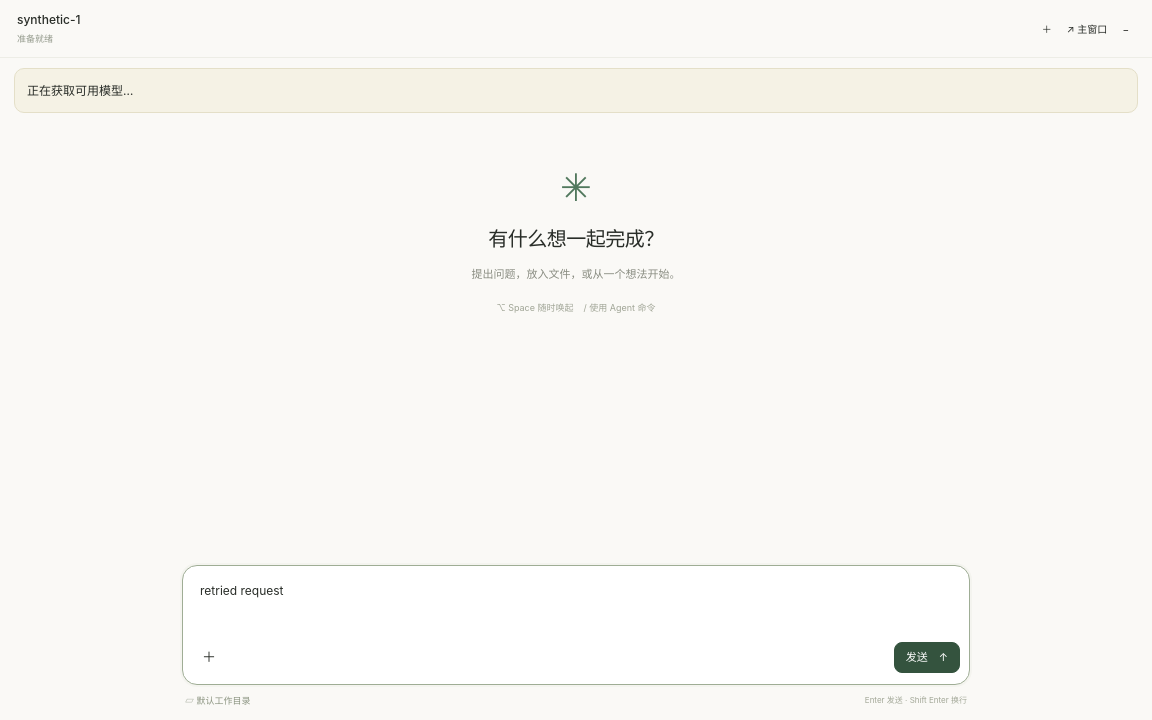
it: uses the actual unchanged draft revision after a deduplicated send switches sessions
The image size is (1152, 720).
Check: the text "synthetic-1" is shown, box [17,10,80,29]
Click the button "发送 ↑" at (927, 657), box [894,642,960,673]
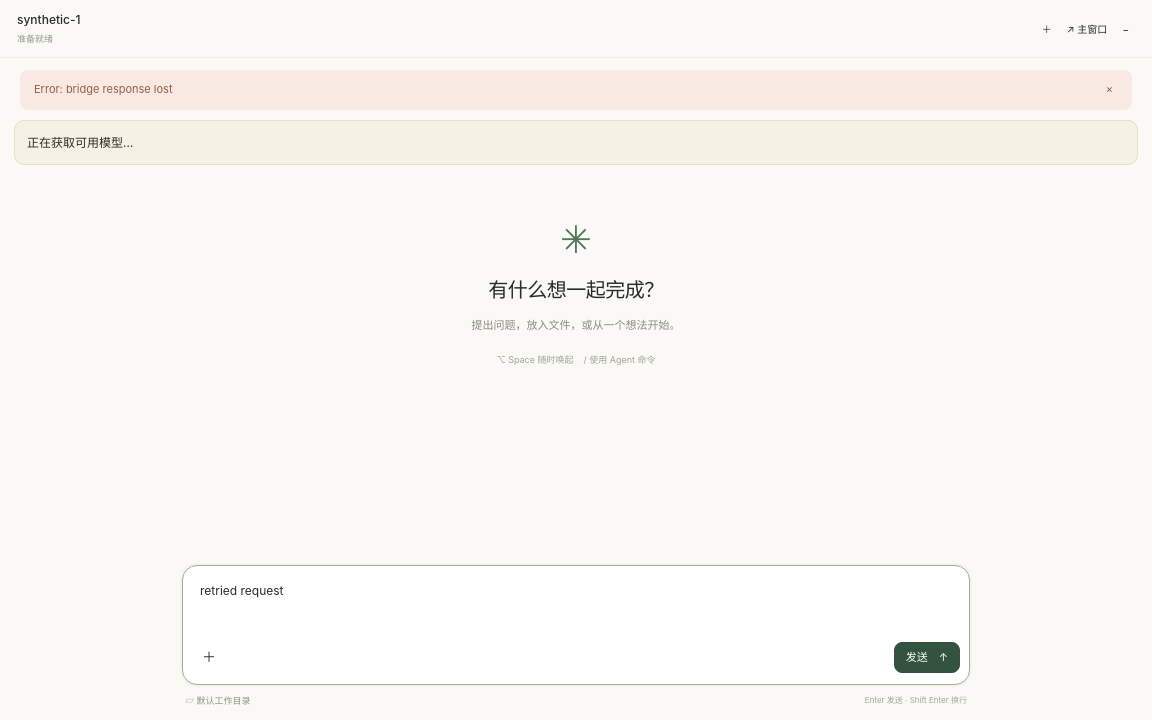
Check: the text "Error: bridge response lost" is shown, box [34,82,172,96]
Click the button "发送 ↑" at (927, 657), box [894,642,960,673]
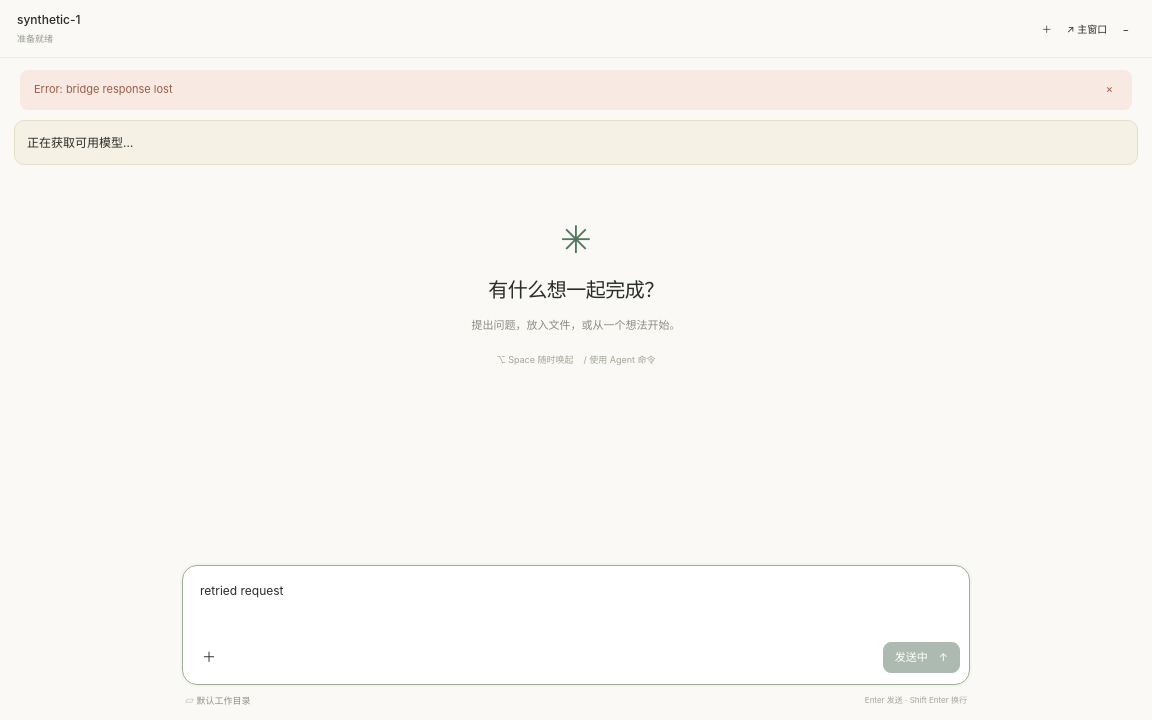
Replace the text in the text box named "消息" with "new follow-up" at (576, 600), box [183,566,969,634]
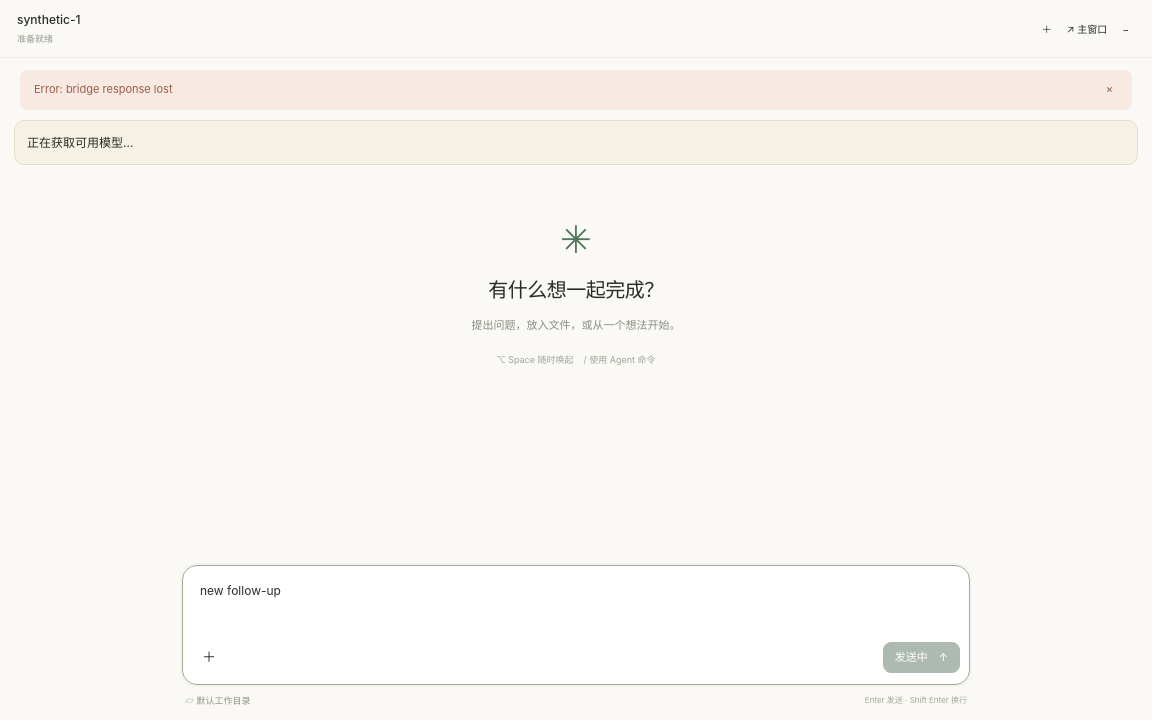
Press Escape in the text box named "消息", box [183,566,969,634]
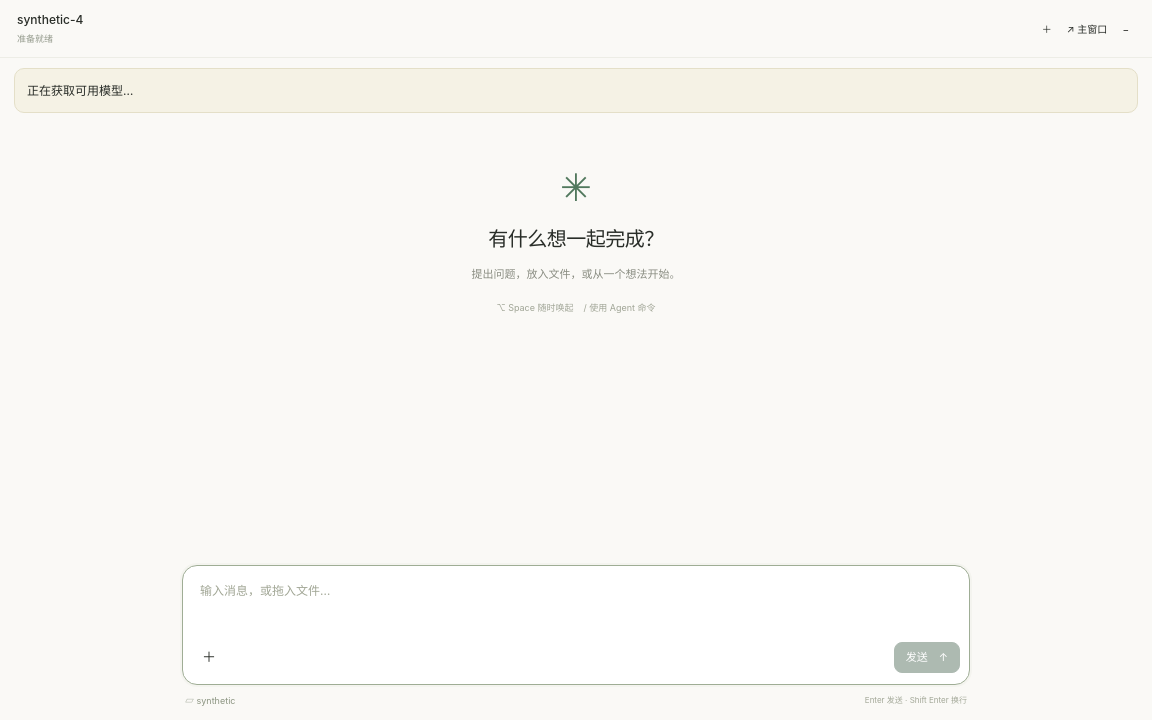
Check: the text "synthetic-4" is shown, box [17,10,83,29]
